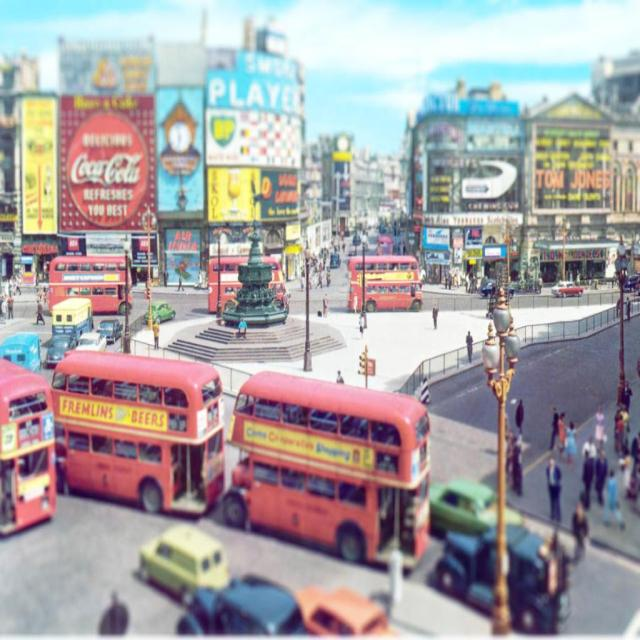car: (434, 521, 572, 636), (180, 568, 311, 638), (135, 521, 230, 603), (427, 476, 522, 539), (298, 585, 399, 639), (73, 330, 108, 354), (96, 314, 124, 340), (146, 298, 175, 323), (548, 277, 584, 294)
